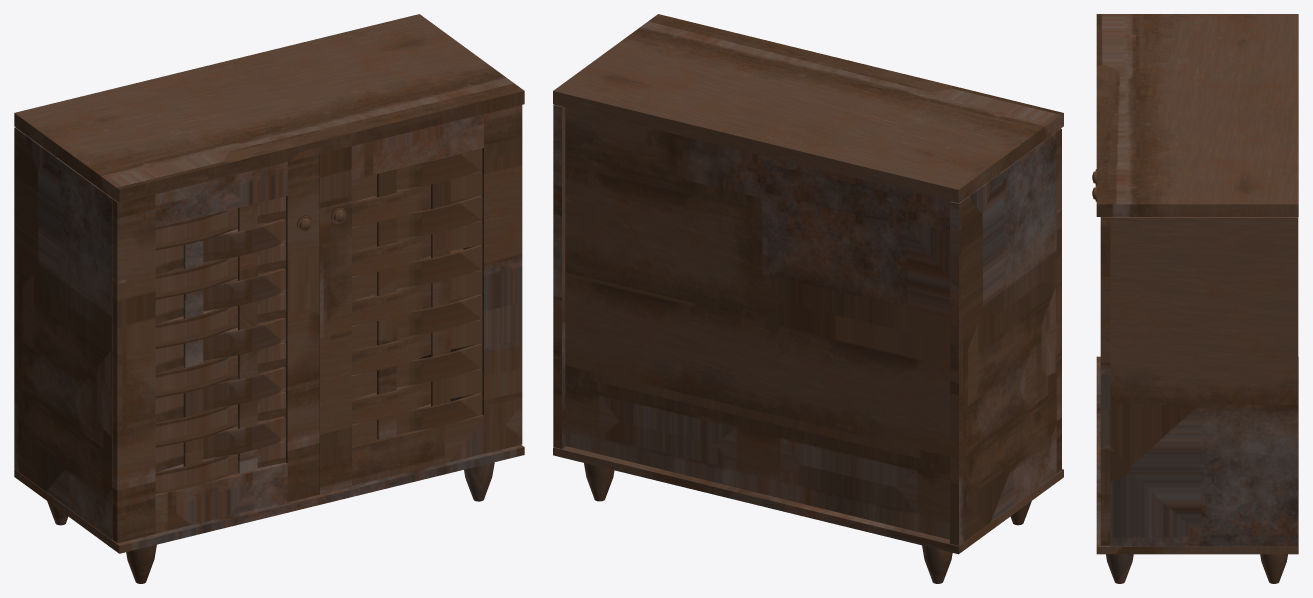
The picture shows the model from 3 angles, left to right: view 1: azimuth 30°, elevation 25°; view 2: azimuth 150°, elevation 25°; view 3: azimuth 270°, elevation 25°; orthographic projection. The views are drawn at different scales.
Visible parts, largest first — view 1: Top_wood, LSide_Wood, L_WoodL, R_WoodR, L_WoodR, R_WoodL, Bottom_wood, polySurface74 (×2), polySurface68 (×2), polySurface61 (×2), polySurface56 (×2), polySurface57 (×2) (+14 smaller); view 2: Back_wood, Top_wood, LSide_Wood, Bottom_wood, RSide_Wood, L_WoodL, RB_Leg, LB_Leg; view 3: RSide_Wood, Top_wood, R_WoodR, Bottom_wood, RB_Leg, RF_Leg.
Boxes of the visible parts, x1,y1,x2,y2 form: Top_wood: [14, 14, 524, 202]; LSide_Wood: [14, 127, 112, 540]; L_WoodL: [112, 194, 155, 543]; R_WoodR: [481, 105, 522, 453]; L_WoodR: [285, 154, 319, 502]; R_WoodL: [319, 146, 351, 494]; Bottom_wood: [14, 385, 524, 553]; polySurface74 (×2): [238, 169, 396, 473]; polySurface68 (×2): [155, 195, 482, 299]; polySurface61 (×2): [155, 343, 482, 447]; polySurface56 (×2): [155, 245, 482, 348]; polySurface57 (×2): [155, 294, 482, 398]; Back_wood: [565, 107, 950, 539]; Top_wood: [553, 14, 1063, 203]; LSide_Wood: [950, 132, 1056, 545]; Bottom_wood: [553, 446, 1063, 554]; RSide_Wood: [553, 104, 565, 448]; L_WoodL: [1056, 128, 1061, 473]; RB_Leg: [584, 463, 614, 501]; LB_Leg: [922, 545, 952, 583]; RSide_Wood: [1110, 217, 1298, 546]; Top_wood: [1096, 14, 1298, 216]; R_WoodR: [1100, 217, 1110, 545]; Bottom_wood: [1096, 356, 1298, 554]; RB_Leg: [1260, 554, 1287, 583]; RF_Leg: [1106, 554, 1133, 583].
Bounding box in the file's own units: 0.9958 × 0.9597 × 0.4568.
